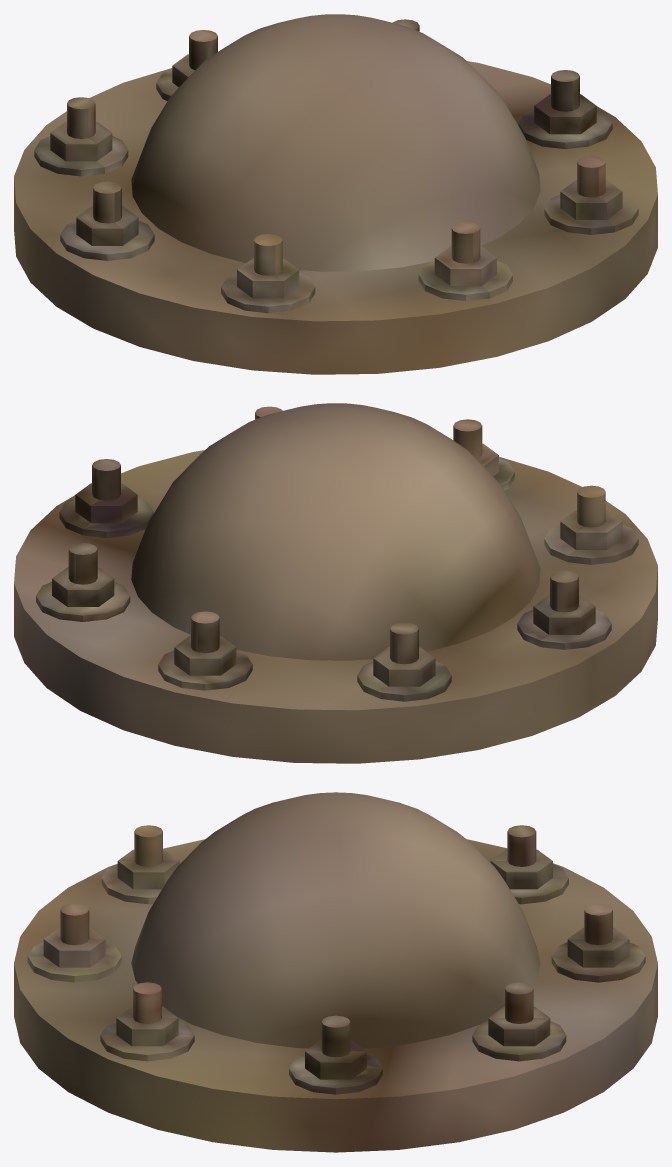
Rendered from pipe-end-cap.gltf.
3 renders of one model, top to bottom at view 1: azimuth 30°, elevation 25°; view 2: azimuth 150°, elevation 25°; view 3: azimuth 270°, elevation 25°, orthographic.
Visible parts, largest first — view 1: Cylinder.003; view 2: Cylinder.003; view 3: Cylinder.003.
Boxes of the visible parts, x1,y1,x2,y2 form: Cylinder.003: (14, 14, 657, 374); Cylinder.003: (14, 403, 657, 763); Cylinder.003: (14, 792, 657, 1152).
Size of the model in its own units: 0.2811 by 0.0987 by 0.2811.
1 material, 1 textured.
